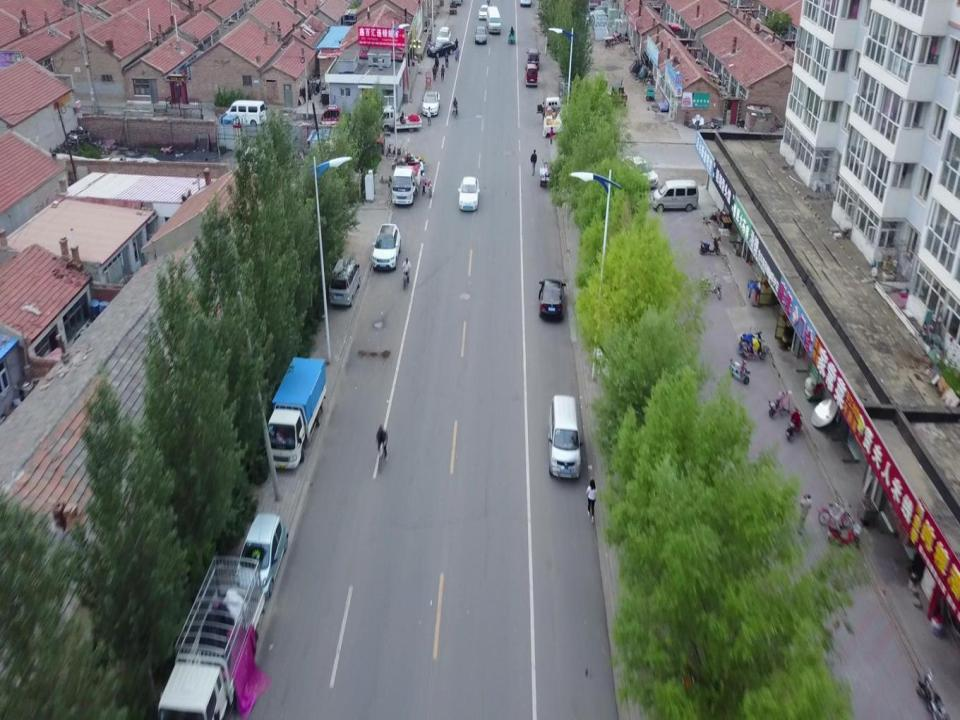car: (233, 511, 290, 603), (914, 665, 950, 720), (617, 155, 660, 192), (372, 223, 403, 273), (536, 275, 567, 324), (455, 175, 481, 210), (426, 38, 458, 57), (421, 89, 442, 116), (435, 25, 451, 47), (474, 26, 487, 44), (477, 4, 491, 20)
truck: (157, 552, 267, 720), (264, 356, 327, 478), (374, 102, 422, 132), (195, 114, 243, 141), (533, 94, 565, 133)
van: (547, 393, 582, 481), (327, 255, 360, 311), (652, 178, 701, 214), (220, 101, 271, 125), (487, 6, 502, 36), (523, 62, 539, 88), (526, 46, 542, 71)
